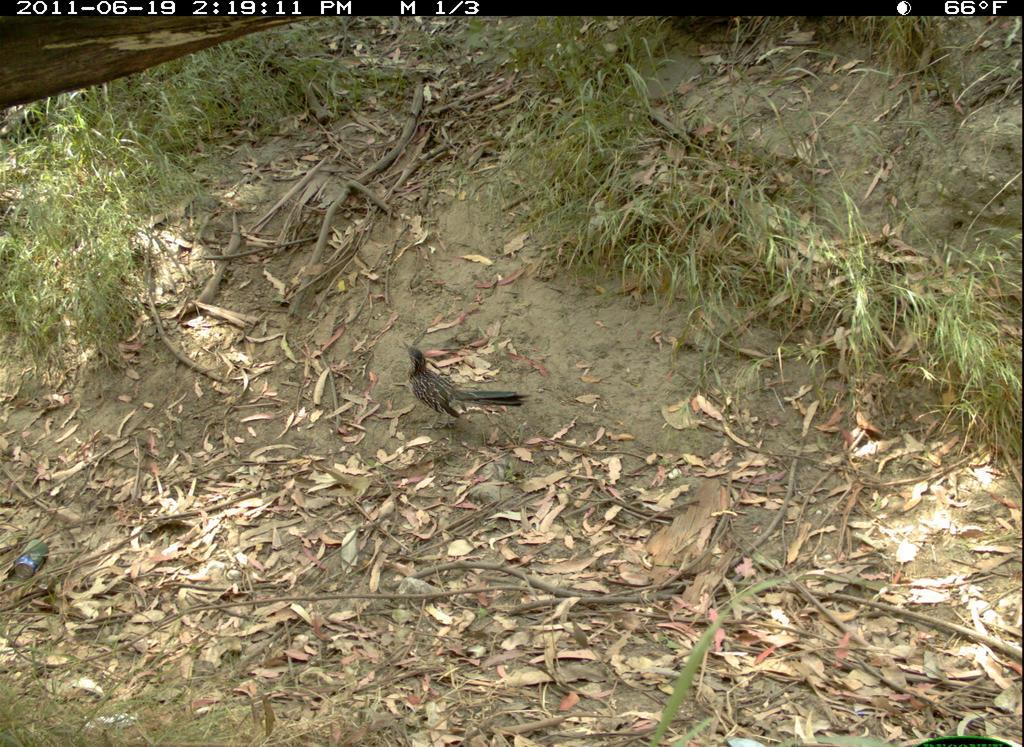bird: (395, 338, 536, 431)
